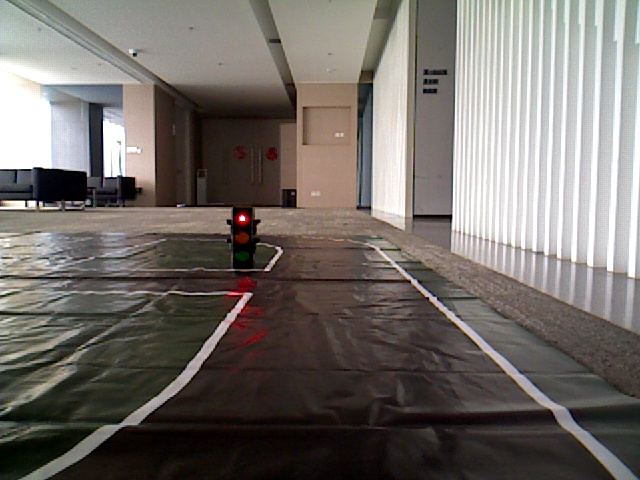red: (235, 209, 251, 255)
